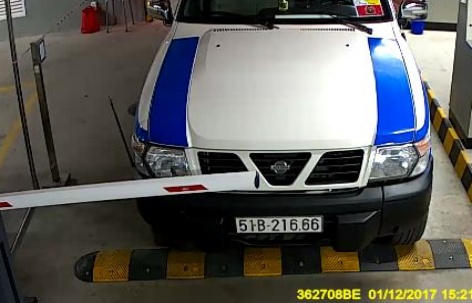plate: (234, 211, 333, 241)
